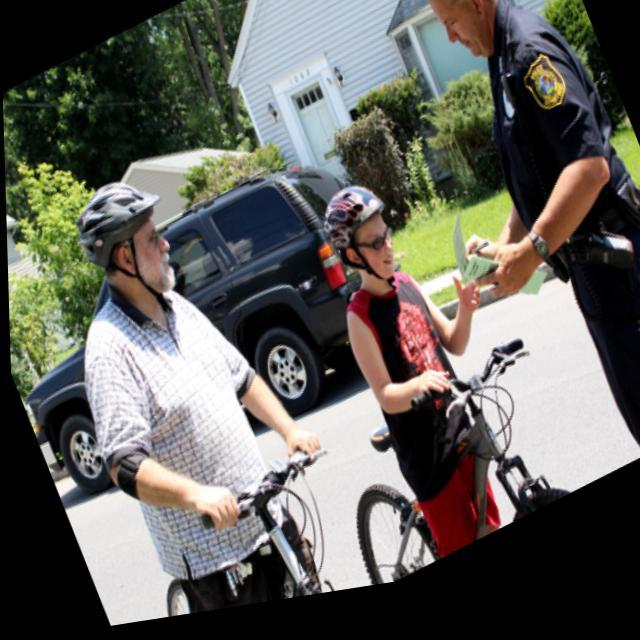Helmet: (69, 167, 181, 313)
